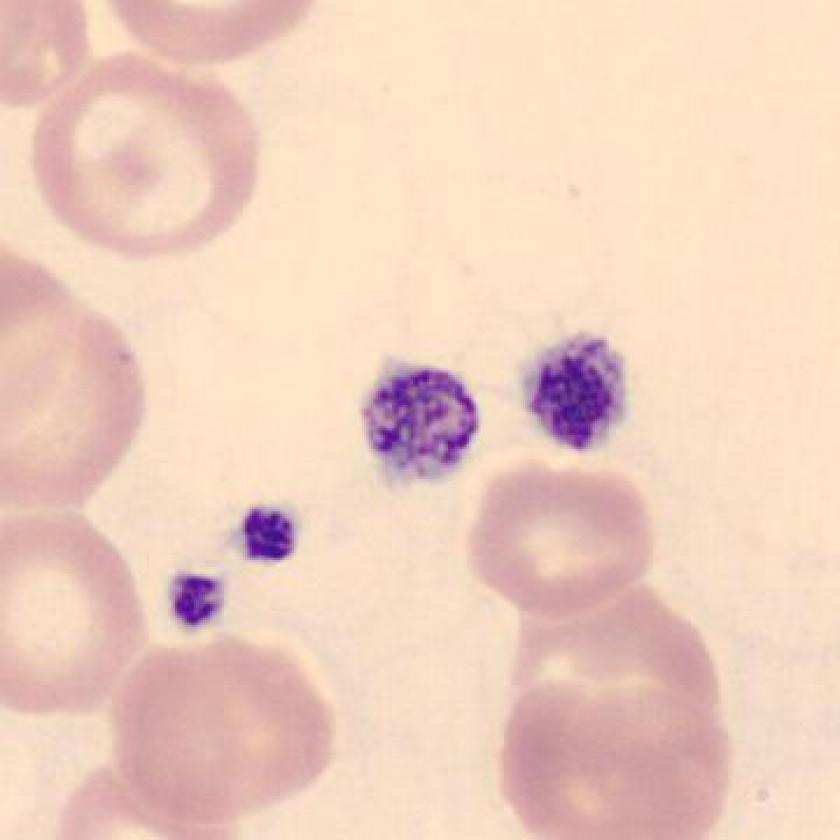platelets: (349, 350, 491, 501), (510, 318, 650, 468), (225, 494, 316, 582), (153, 559, 237, 649)
